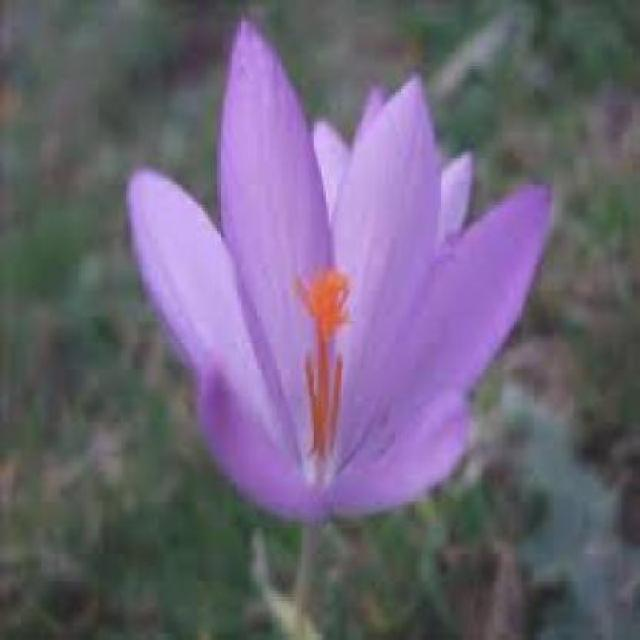saffron open: (125, 63, 564, 528)
